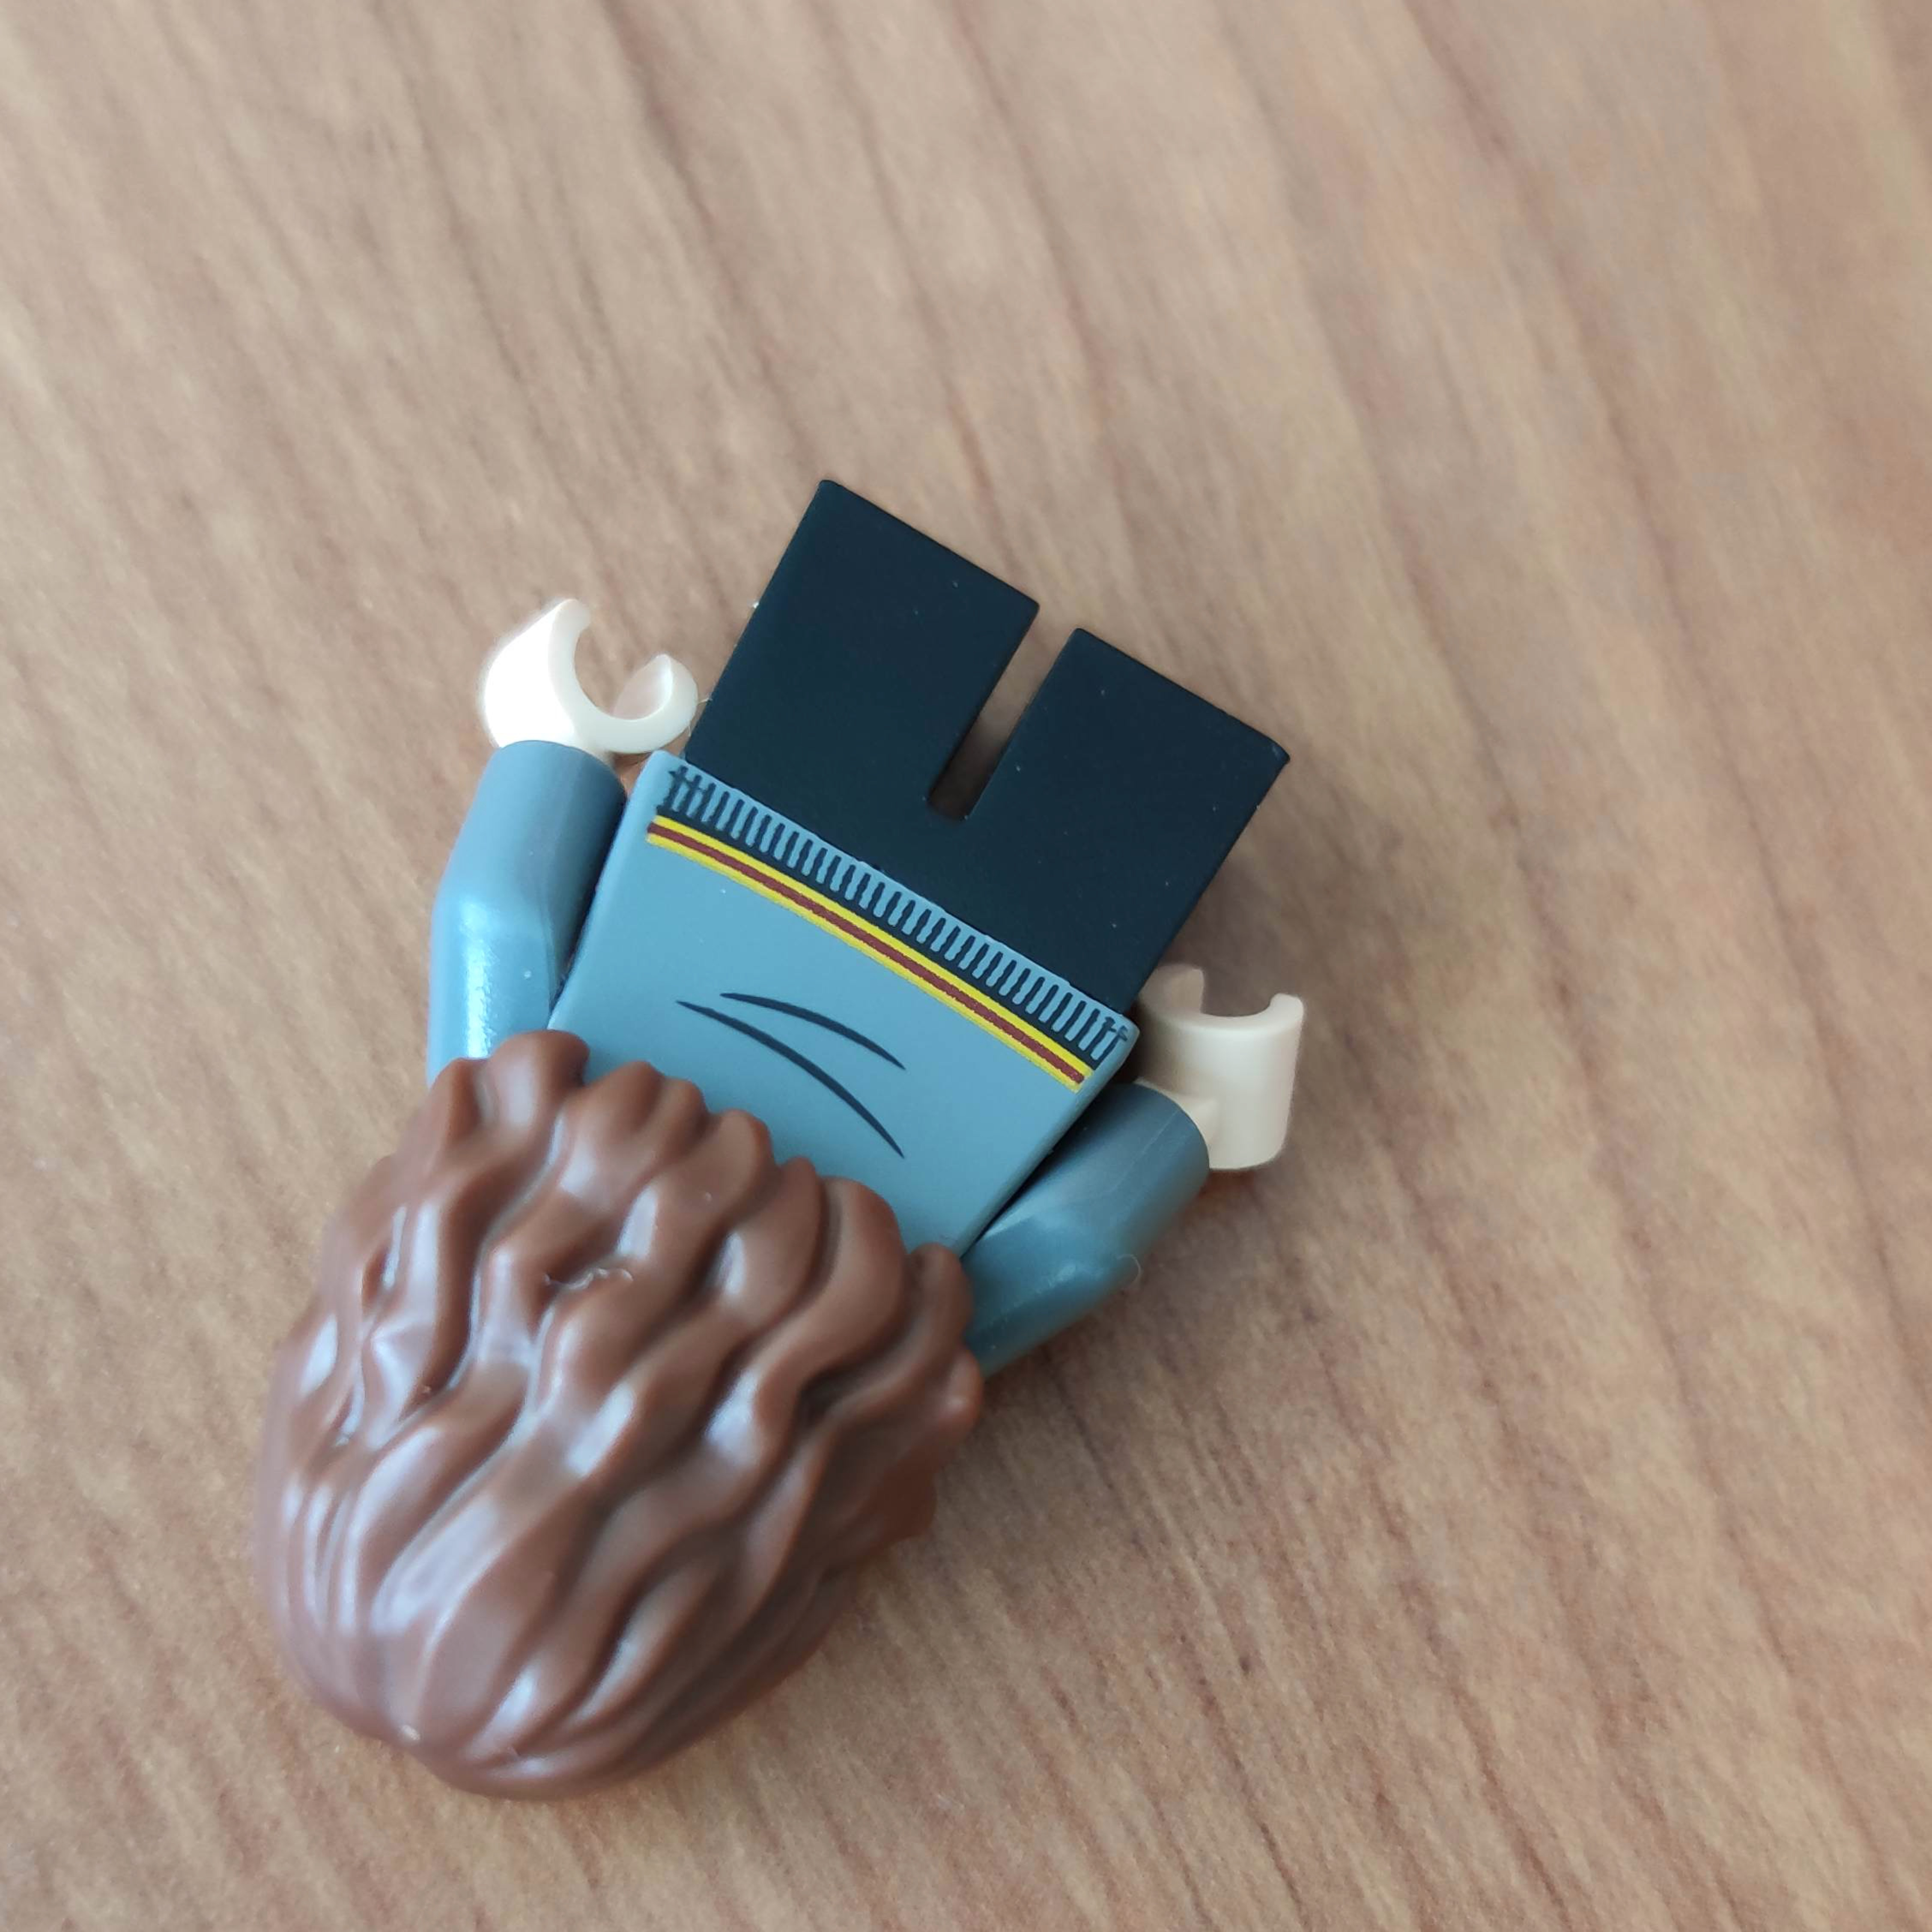lego: (255, 472, 1309, 1801)
